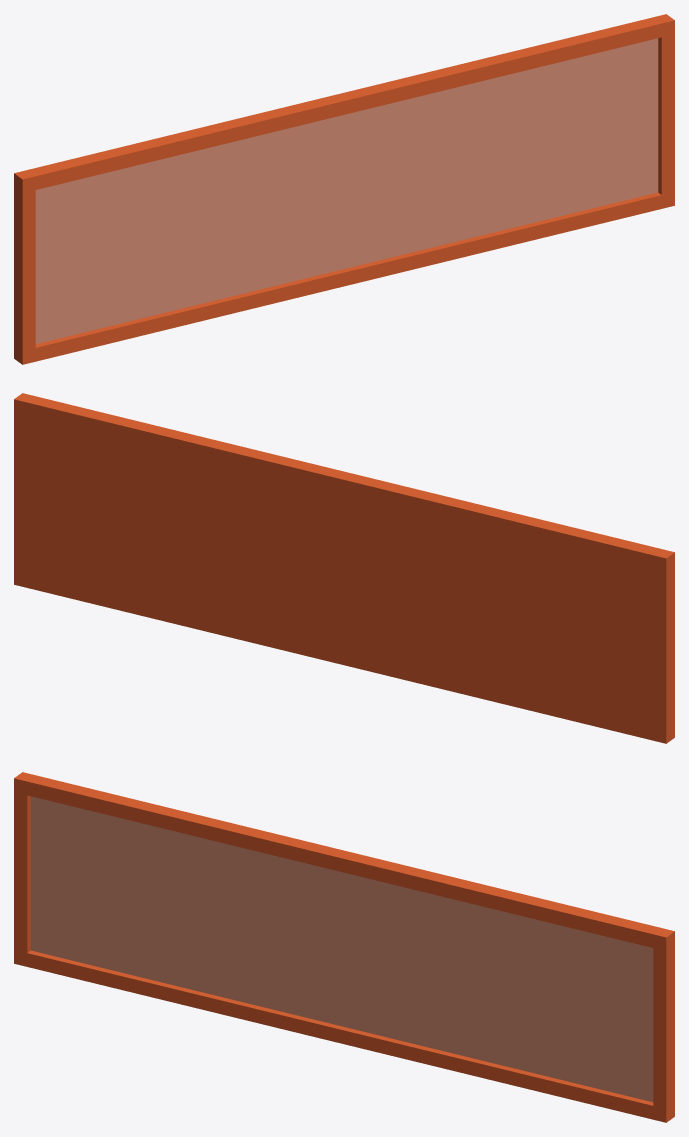
The model's file is Placa.fbx.
The picture shows the model from 3 angles, top to bottom: view 1: azimuth 30°, elevation 25°; view 2: azimuth 150°, elevation 25°; view 3: azimuth 330°, elevation 25°; orthographic projection.
Parts seen in each view (by area): view 1: Cube.008; view 2: Cube.008; view 3: Cube.008.
Part boxes in pixels (x1=…): Cube.008: x1=14, y1=14, x2=674, y2=364; Cube.008: x1=14, y1=393, x2=674, y2=743; Cube.008: x1=14, y1=772, x2=674, y2=1122.
Size of the model in its own units: 384 by 104 by 8.73.
